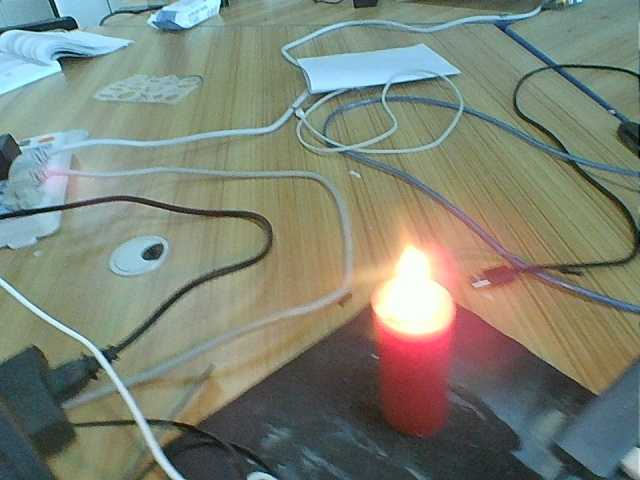candle: (375, 329, 459, 445)
fire: (382, 249, 446, 325)
